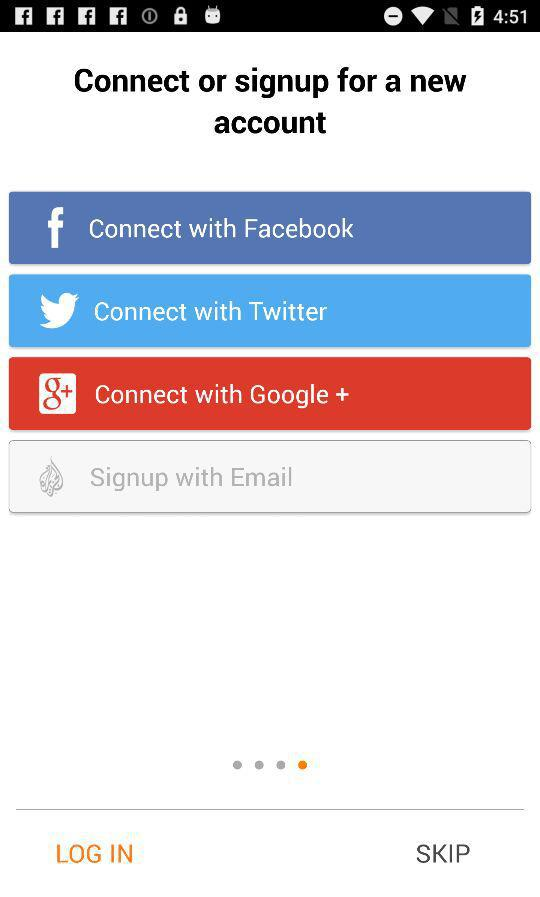PageIndicator: (232, 759, 309, 771)
Text: (75, 67, 467, 136), (57, 842, 134, 865), (416, 843, 471, 864)
TextButton: (9, 440, 532, 514), (9, 357, 532, 431), (10, 274, 532, 348), (10, 192, 532, 265)
UpperTaskBar: (1, 1, 540, 33)
